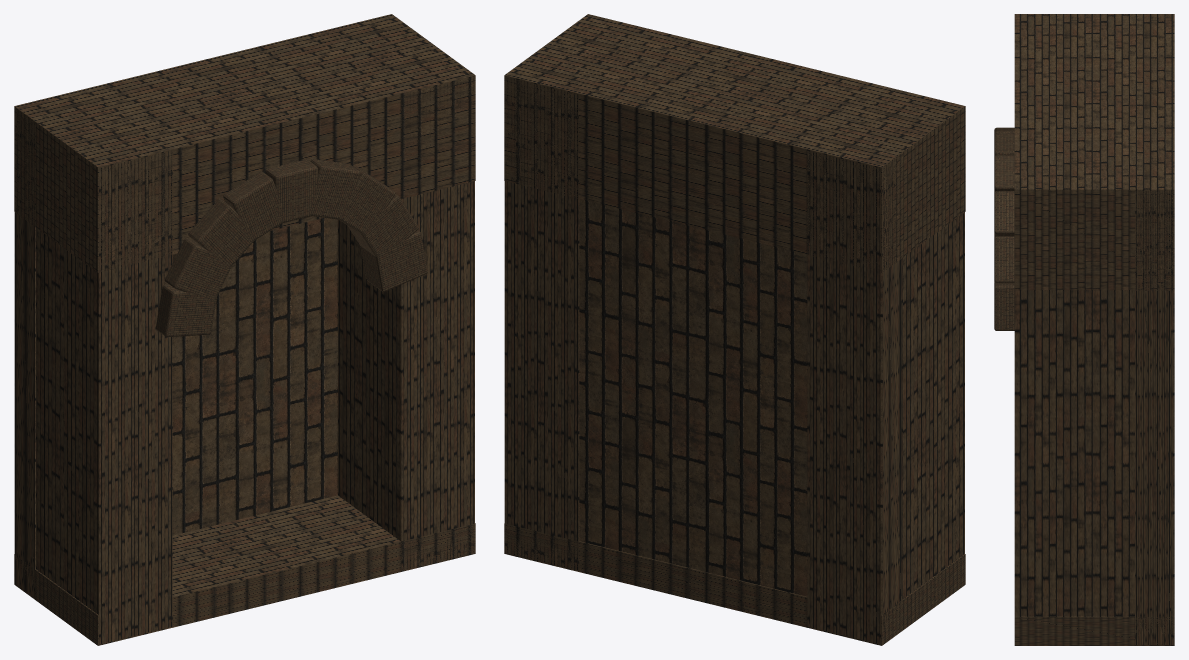
File: room_furnace.glb
3 renders of one model, left to right at view 1: azimuth 30°, elevation 25°; view 2: azimuth 150°, elevation 25°; view 3: azimuth 270°, elevation 25°, orthographic. The views are drawn at different scales.
Parts seen in each view (by area): view 1: room_furnace; view 2: room_furnace; view 3: room_furnace.
Boxes of the visible parts, x1,y1,x2,y2 form: room_furnace: (14,14,475,645); room_furnace: (504,14,965,645); room_furnace: (994,14,1174,645).
Size of the model in its own units: 1.95 by 2.36 by 0.845.
Materials: 1 (1 with a texture image).
